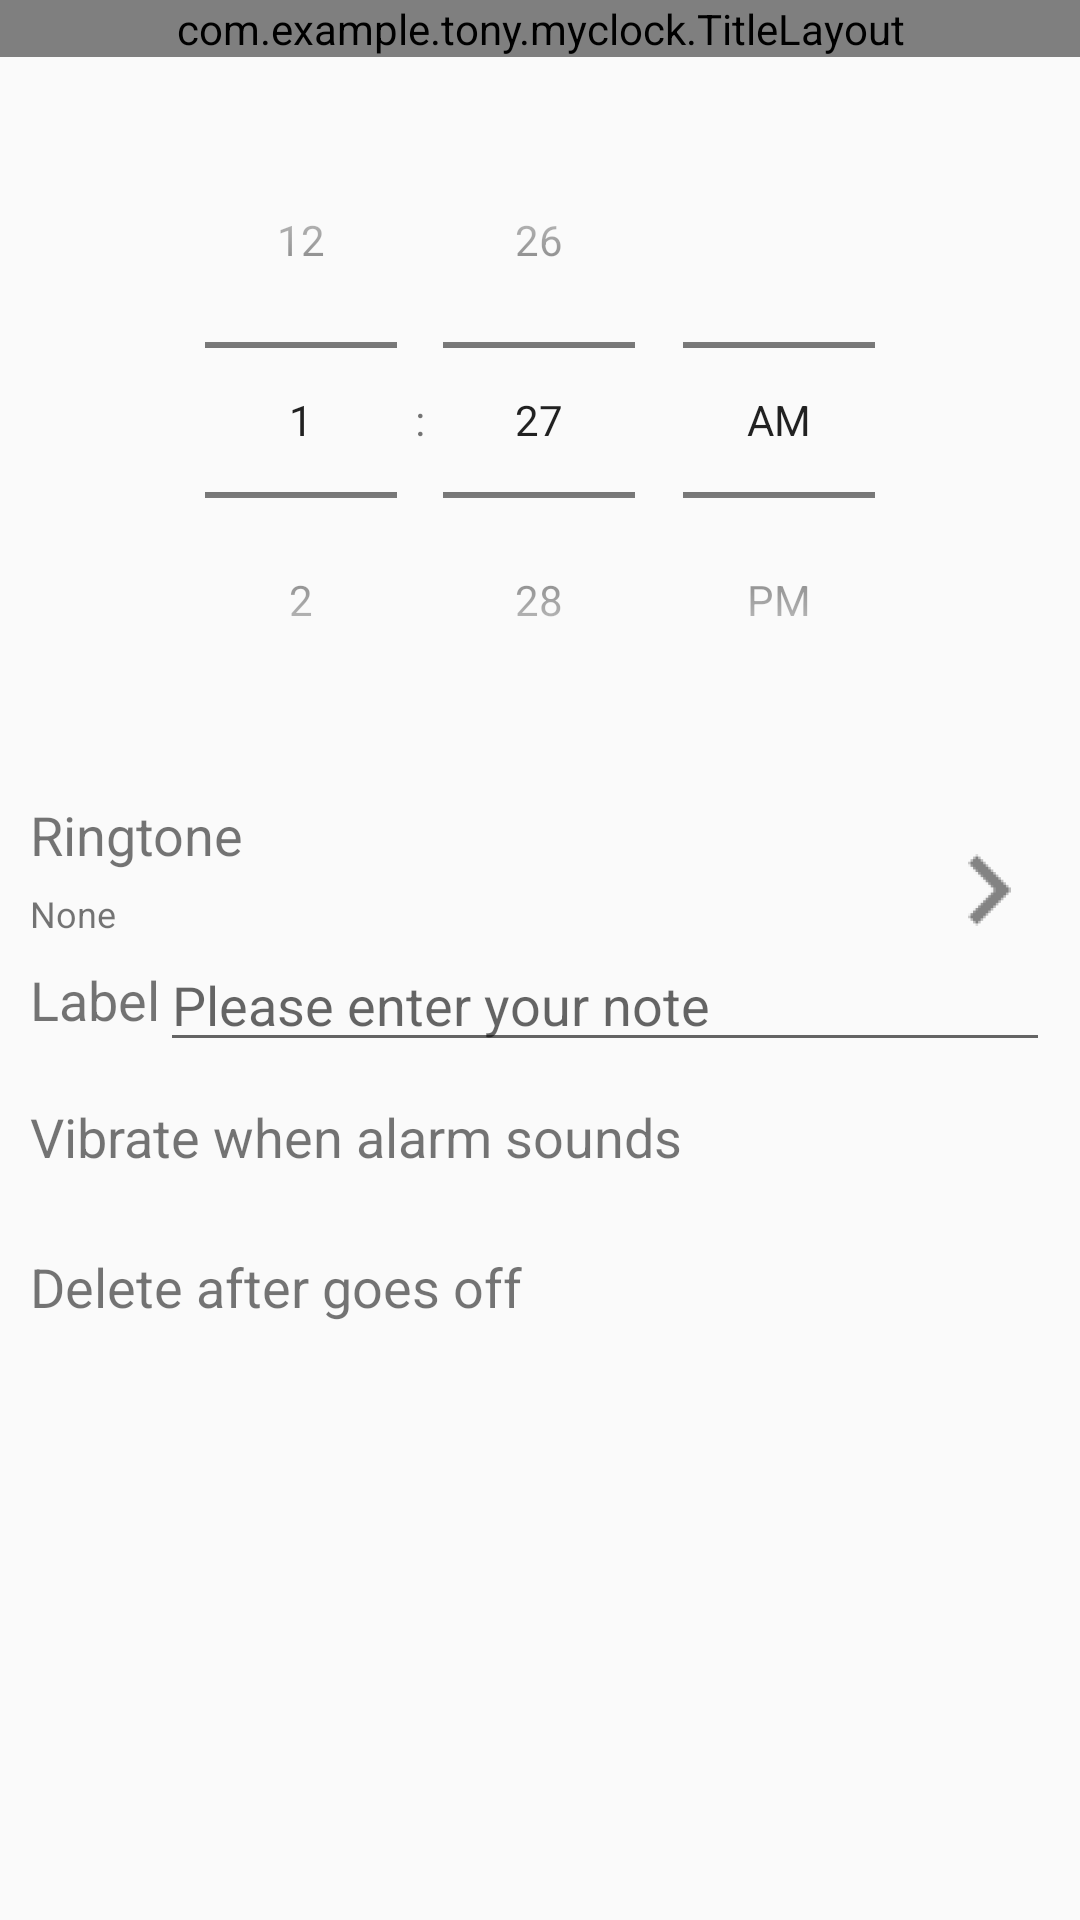

Point at icon controls on the screen. Image size 1080px x 1920px, points as point (x, y).
navigate next: point (989, 890)
